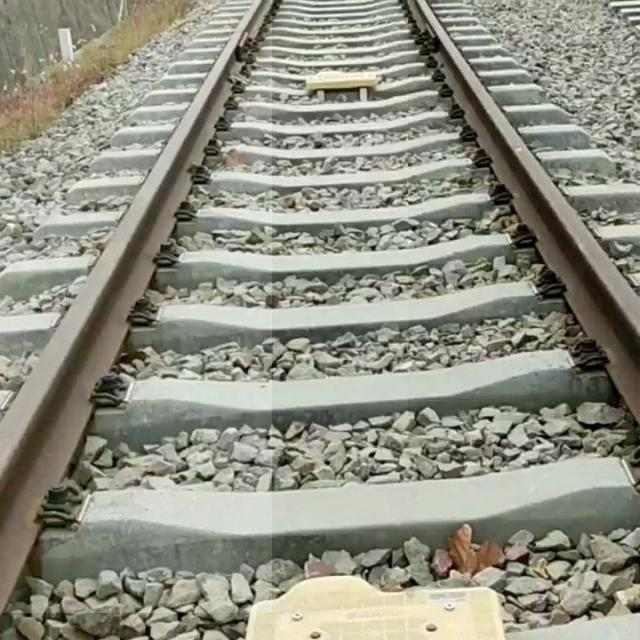rail: (2, 1, 273, 614), (410, 1, 640, 422)
